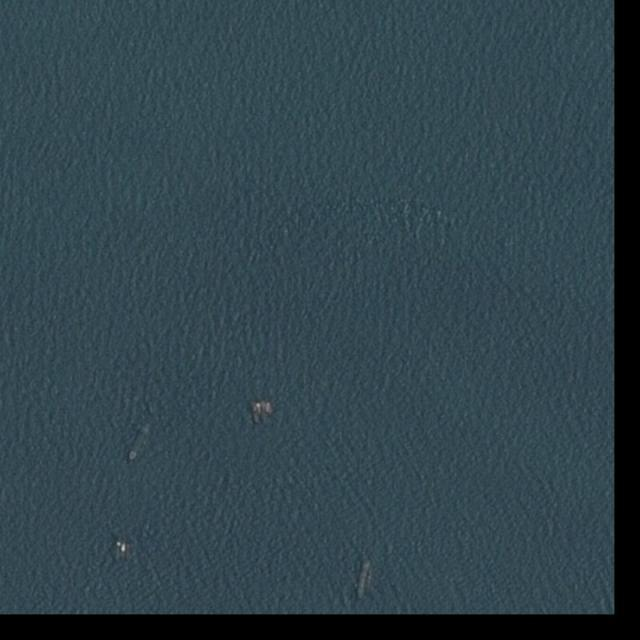ship: (127, 425, 148, 462), (355, 560, 371, 600), (259, 400, 267, 422), (252, 402, 260, 423), (121, 542, 127, 553), (116, 542, 122, 547)
